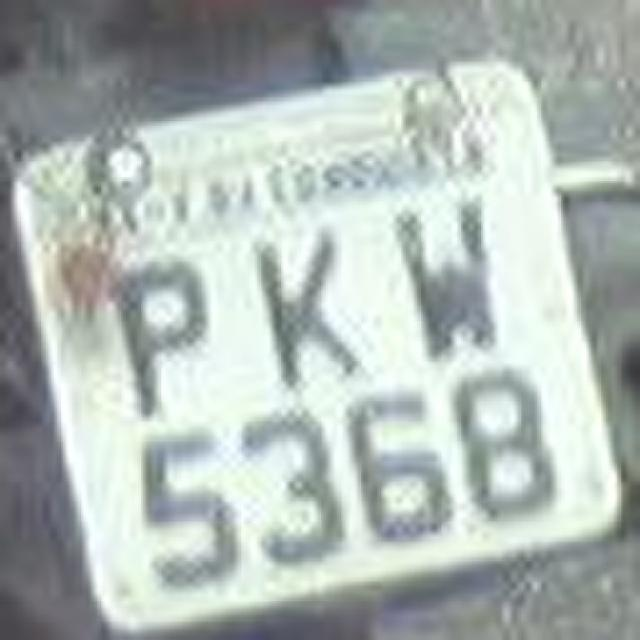3: (208, 384, 368, 584)
5: (104, 416, 264, 596)
8: (444, 355, 564, 540)
K: (244, 212, 376, 408)
P: (100, 244, 220, 436)
W: (384, 180, 511, 375)
